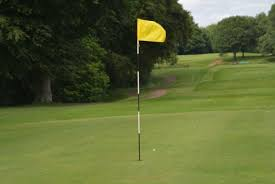Flag: (136, 17, 168, 42)
